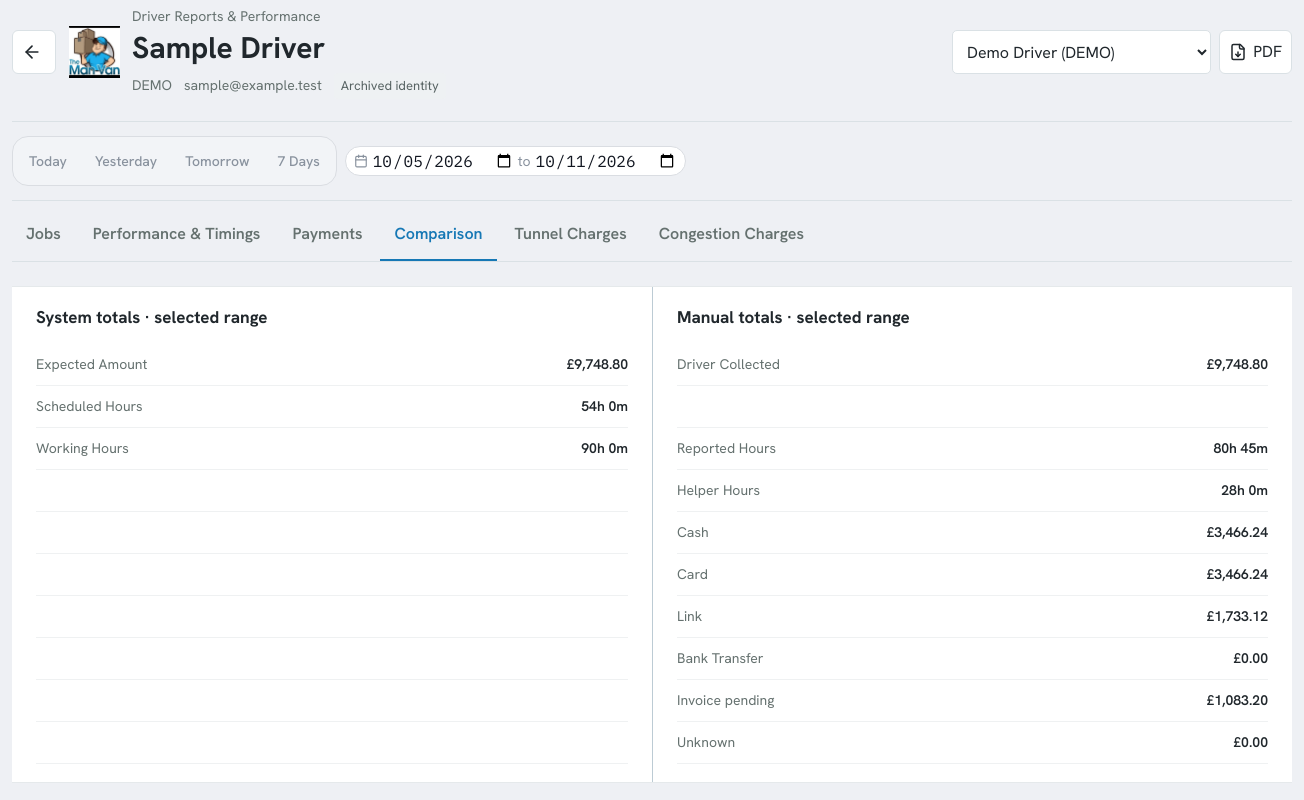
Test: Driver report URL and request lifecycle › switches drivers while retaining dates and tab, resetting pages and using daily charts despite legacy grouping
The image size is (1304, 800).
Expected: the tab "Comparison" is shown, [380,208,496,260]
Select "Next Driver (NEXT) (Inactive)" in the dropdown named "Select report driver" at (1082, 52), box [952,30,1211,74]
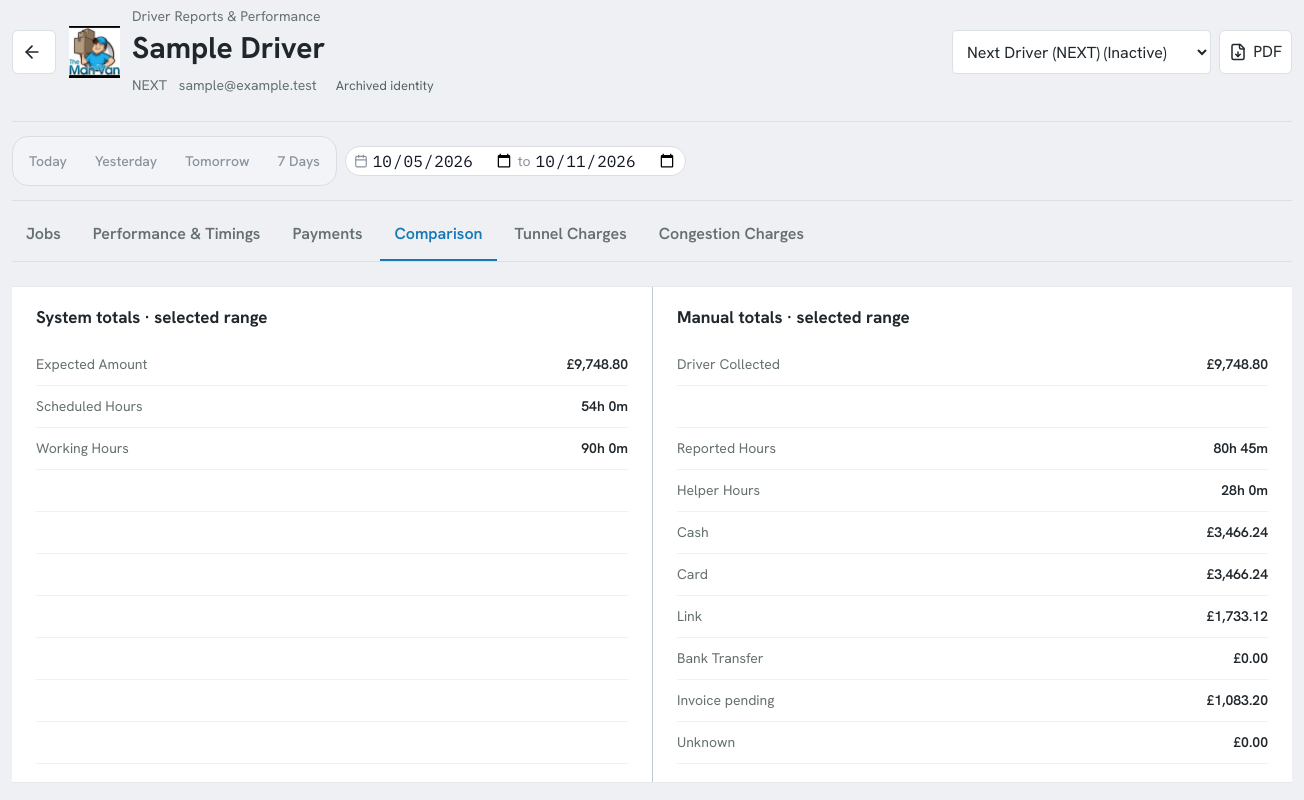
Now the dropdown named "Select report driver" shows "Next Driver (NEXT) (Inactive)", box [952,30,1211,74]
